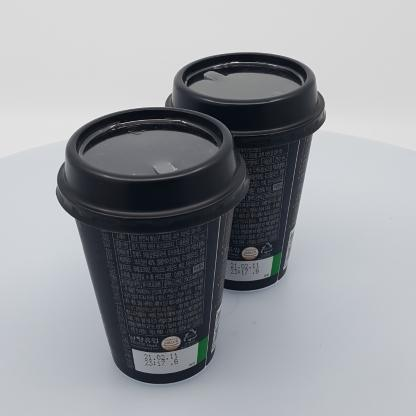-------------: (56, 106, 249, 386), (161, 52, 326, 293)
